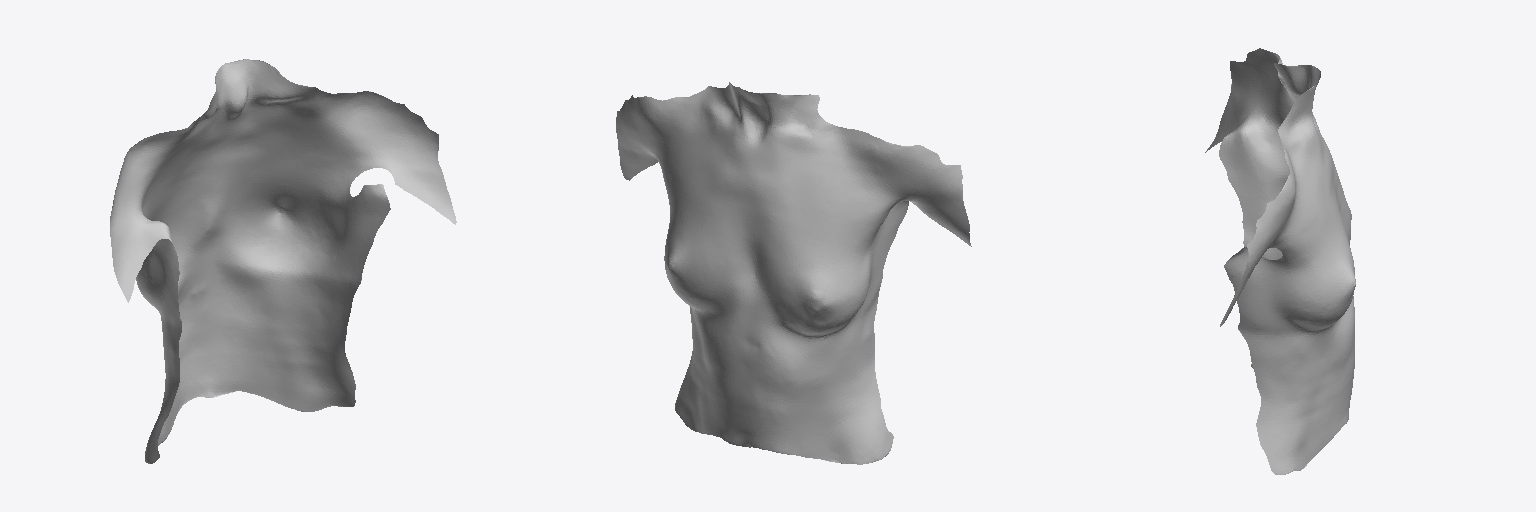
The model's file is 3DScan_1.obj.
The picture shows the model from 3 angles: view 1: azimuth 30°, elevation 25°; view 2: azimuth 150°, elevation 25°; view 3: azimuth 270°, elevation 25°; orthographic projection.
Visible parts, largest first — view 1: Ax3Mesh; view 2: Ax3Mesh; view 3: Ax3Mesh.
Boxes of the visible parts, x1=… form: Ax3Mesh: x1=110, y1=59, x2=456, y2=463; Ax3Mesh: x1=616, y1=82, x2=971, y2=464; Ax3Mesh: x1=1205, y1=48, x2=1355, y2=474.
Bounding box in the file's own units: 474 × 476 × 181.